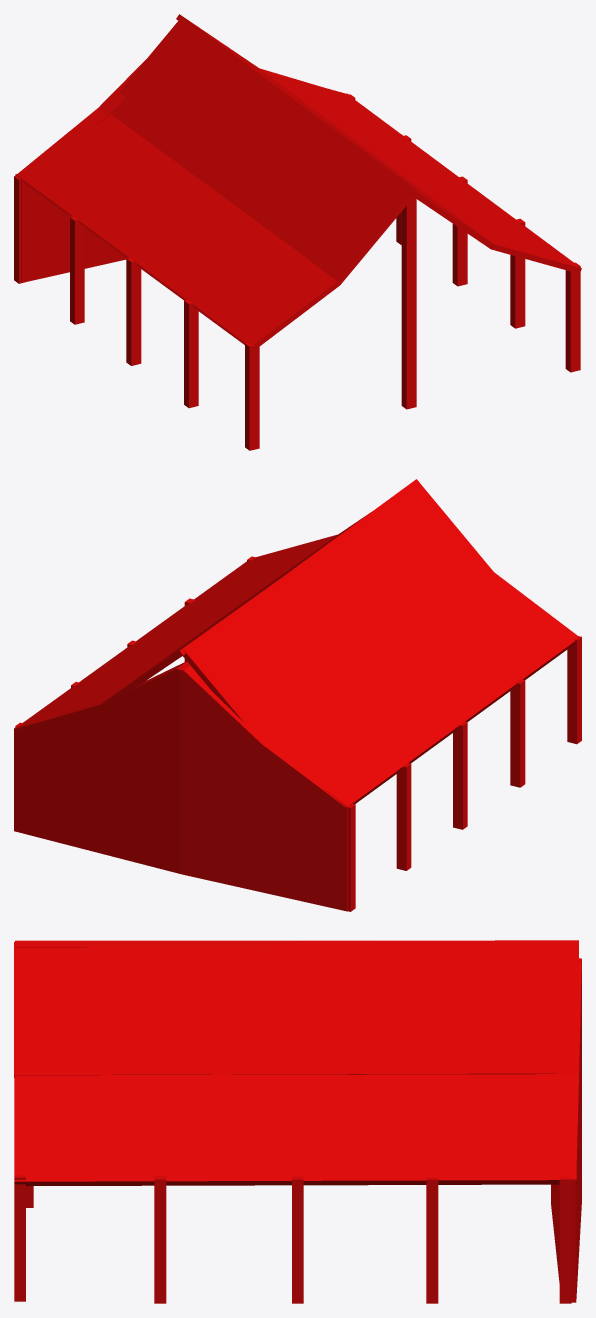
Rendered from SM_Bld_Military_Tent_02_Collision.fbx.
3 views of the same model, one above another, from view 1: azimuth 30°, elevation 25°; view 2: azimuth 150°, elevation 25°; view 3: azimuth 270°, elevation 25° (orthographic). The views are drawn at different scales.
Visible parts, largest first — view 1: SM_Bld_Military_Tent_02_Collision; view 2: SM_Bld_Military_Tent_02_Collision; view 3: SM_Bld_Military_Tent_02_Collision.
Part boxes in pixels (x1,y1,x2,y2): SM_Bld_Military_Tent_02_Collision: [14, 14, 581, 450]; SM_Bld_Military_Tent_02_Collision: [14, 479, 581, 911]; SM_Bld_Military_Tent_02_Collision: [14, 940, 581, 1303].
Size of the model in its own units: 620 by 393 by 760.
